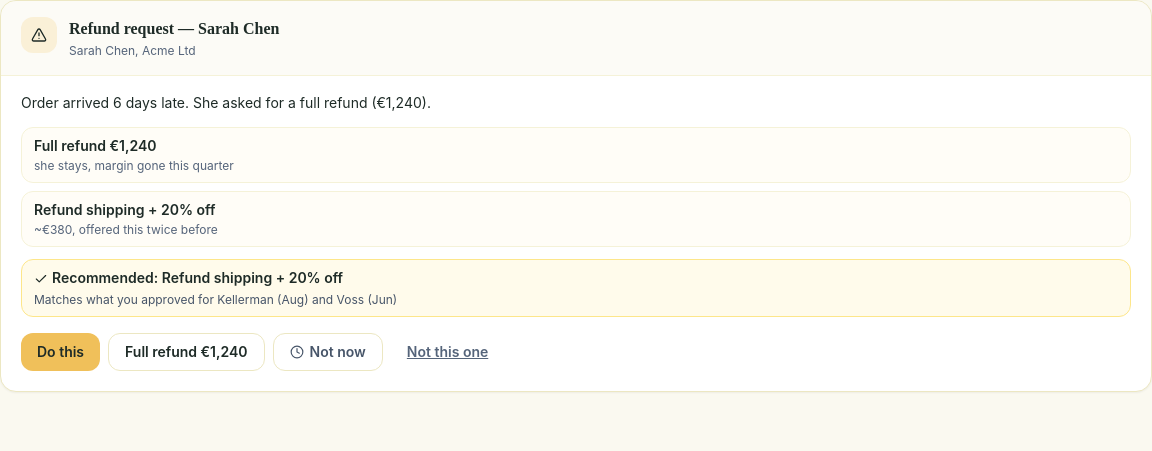
Test: OwnerDecisionCard › shows four rejection reasons
Click the button "Not this one" at (448, 352), box [391,333,504,371]
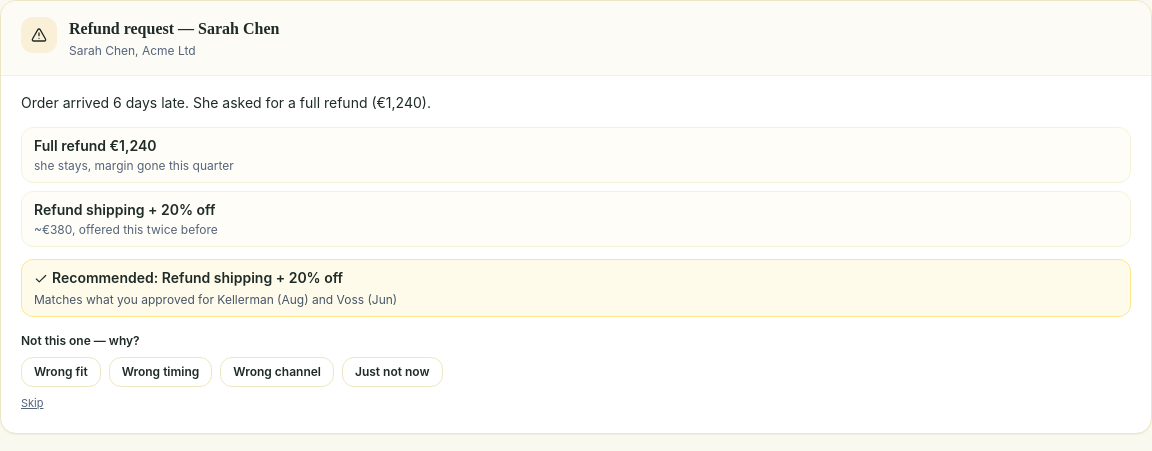
Now the button "Wrong fit" is shown, box [21,357,101,387]
Now the button "Wrong timing" is shown, box [109,357,212,387]
Now the button "Wrong channel" is shown, box [220,357,334,387]
